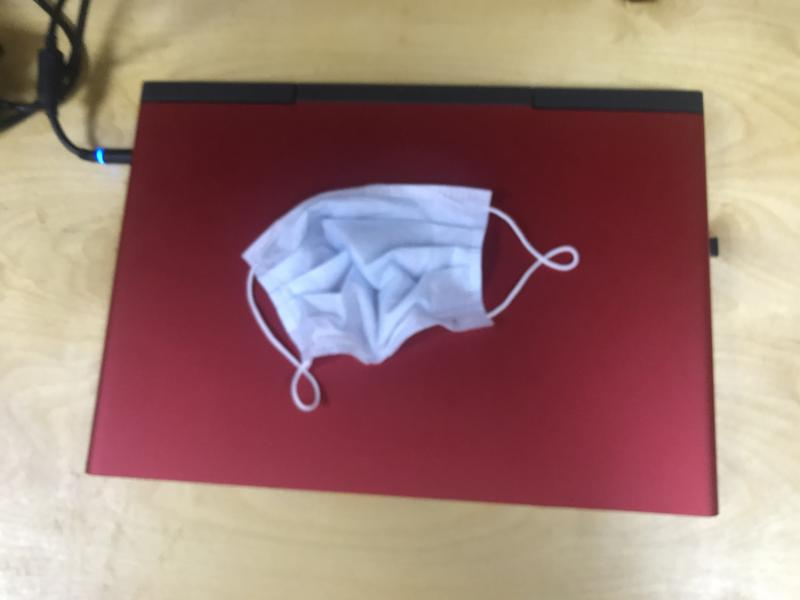medical_mask: (246, 184, 582, 413)
